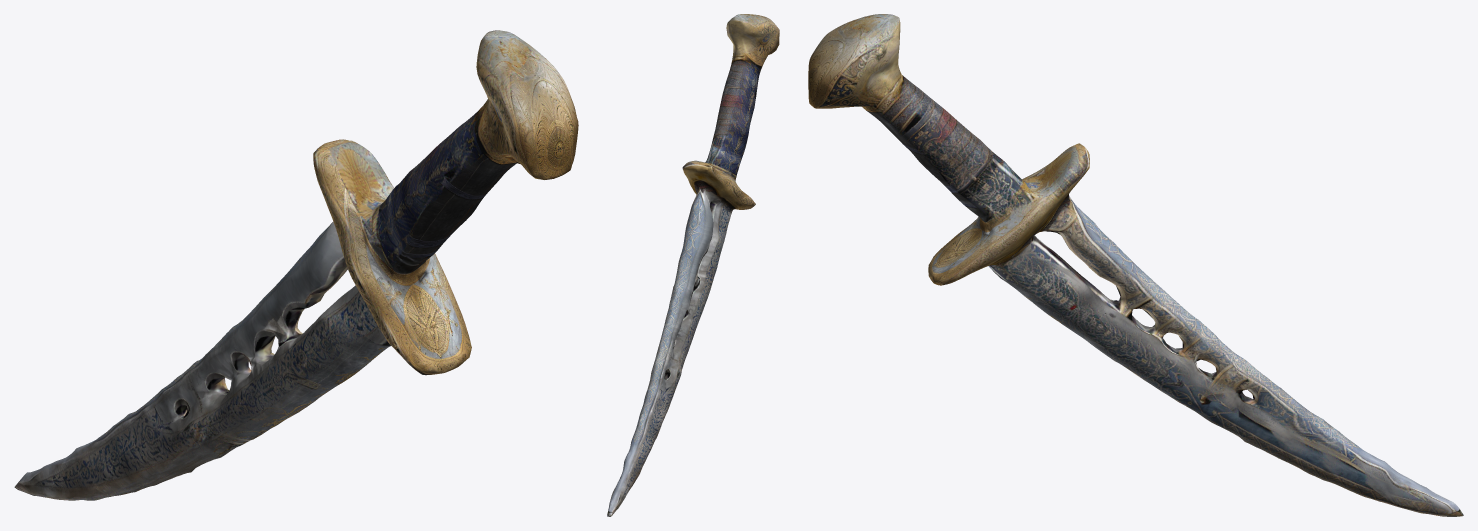
File: swords3.obj
The picture shows the model from 3 angles, left to right: view 1: azimuth 30°, elevation 25°; view 2: azimuth 150°, elevation 25°; view 3: azimuth 270°, elevation 25°; orthographic projection. The views are drawn at different scales.
Visible parts, largest first — view 1: Mesh_0; view 2: Mesh_0; view 3: Mesh_0.
Part boxes in pixels (x1,y1,x2,y2): Mesh_0: (14, 30, 578, 500); Mesh_0: (607, 14, 779, 516); Mesh_0: (808, 14, 1463, 516).
Size of the model in its own units: 0.2512 by 1.08 by 1.2.
1 material, 1 textured.
